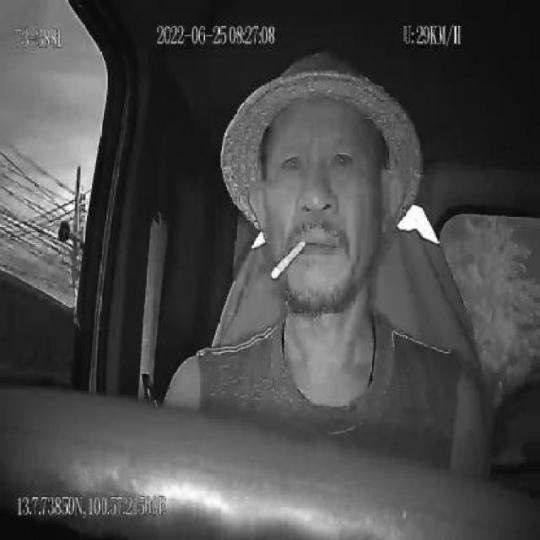smoking: (268, 238, 307, 283)
